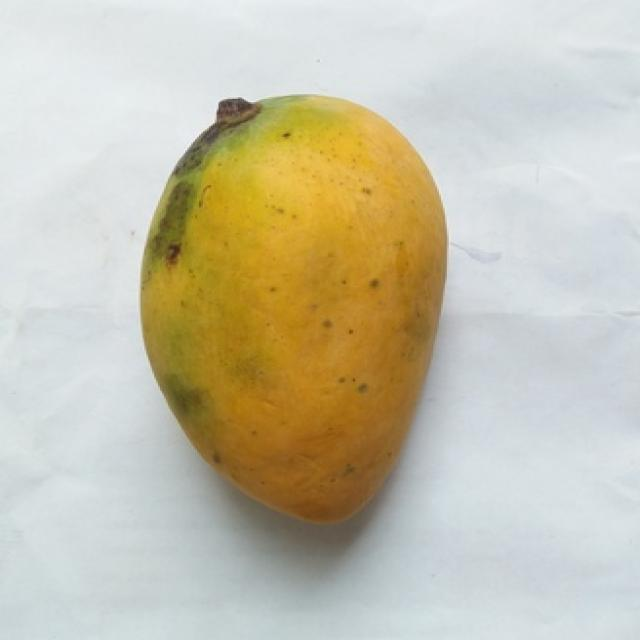Mango: (142, 96, 445, 519)
